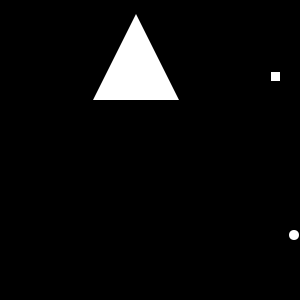circle: (271, 72, 280, 81)
rectangle: (289, 230, 299, 240)
triangle: (93, 14, 179, 100)
